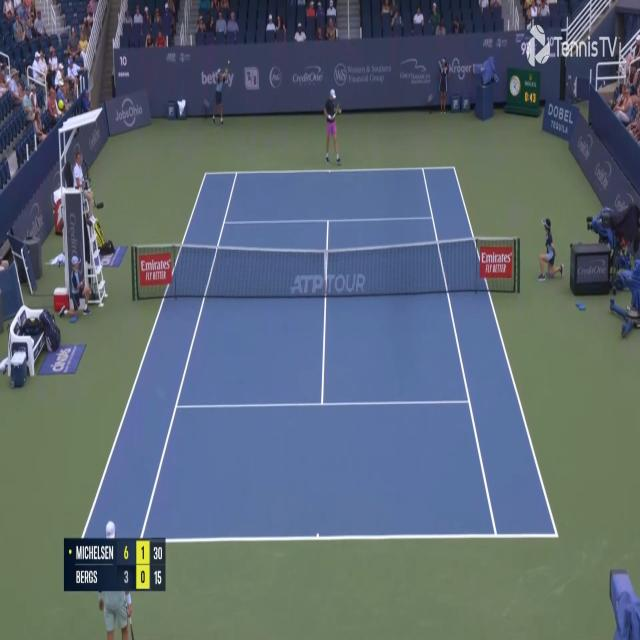tennis-player: (96, 516, 136, 640), (321, 88, 343, 166)
